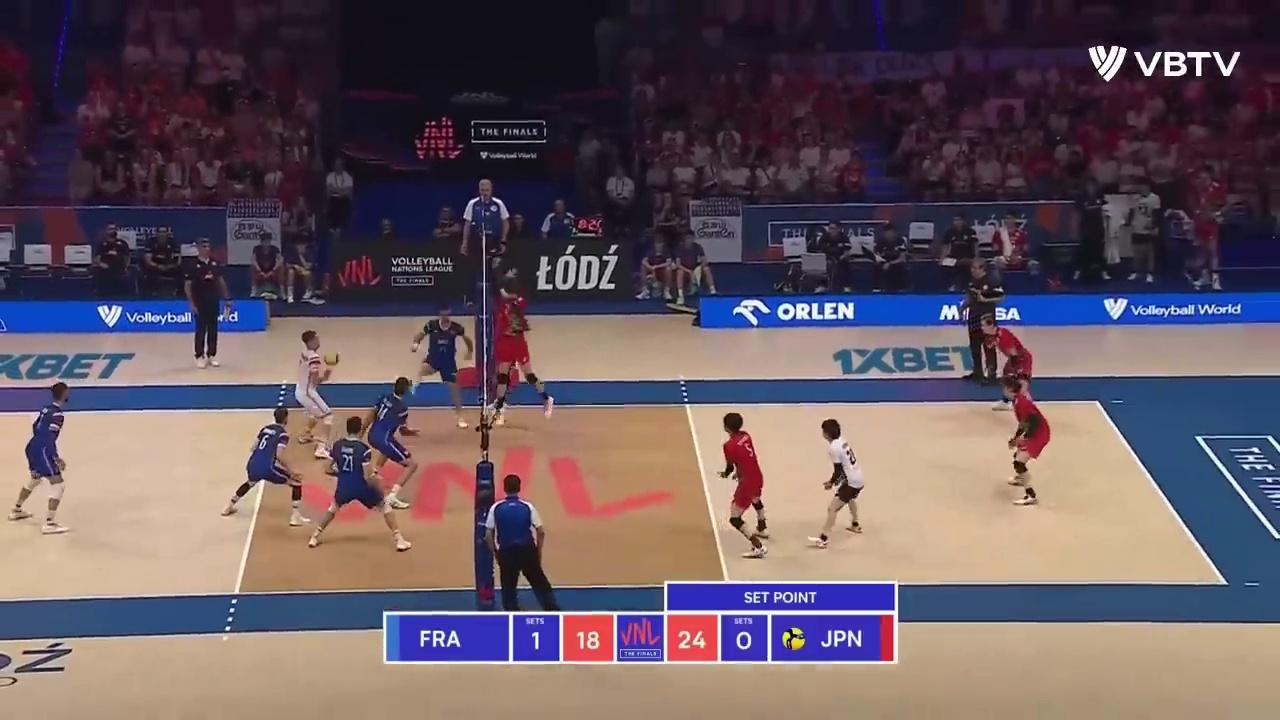ball: (323, 352, 340, 367)
